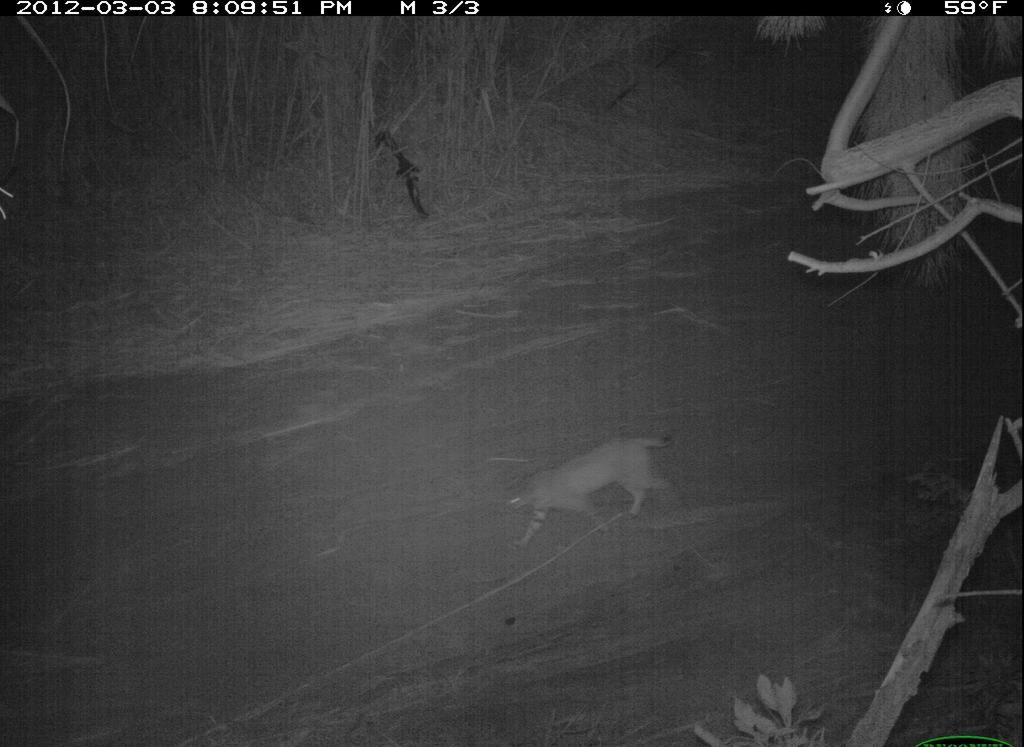bobcat: (498, 432, 679, 556)
